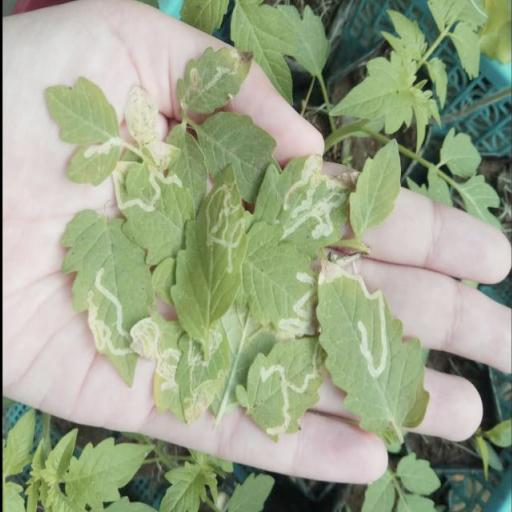disease_tomato: (314, 258, 429, 448), (60, 208, 148, 388), (170, 162, 249, 342), (234, 340, 326, 442), (41, 76, 122, 186), (276, 152, 350, 246), (173, 44, 255, 112)
